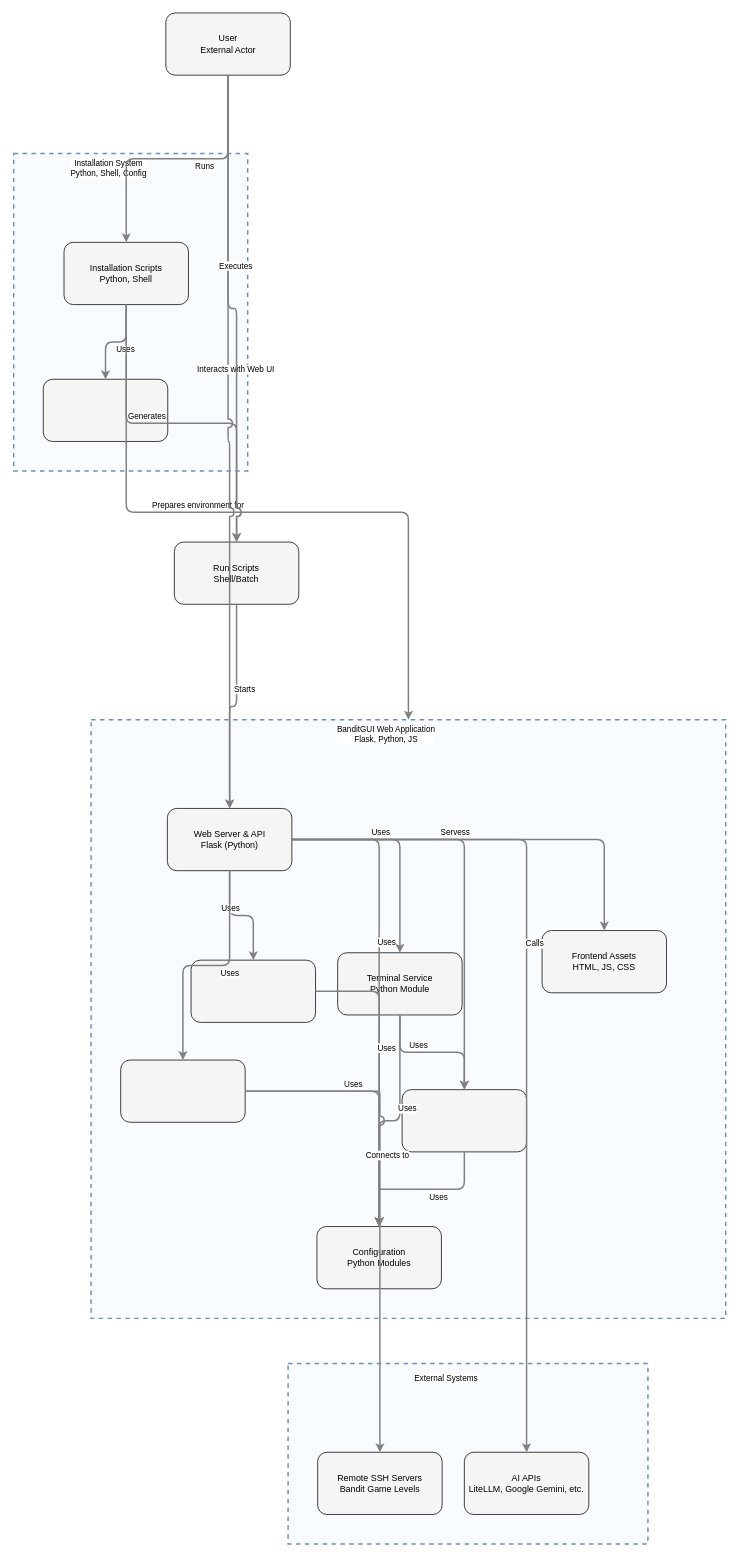
Some shapes in this 739 by 1558 pixel diagram are drawn without their labels. The centre of each missing label's shape, as x and y in pixels:
Chat Service Python Module: the point at 253,990
Core Utilities Python Modules: the point at 464,1120
Dependency Specs TXT, JSON: the point at 105,410
SSH Service Python Module: the point at 182,1090
